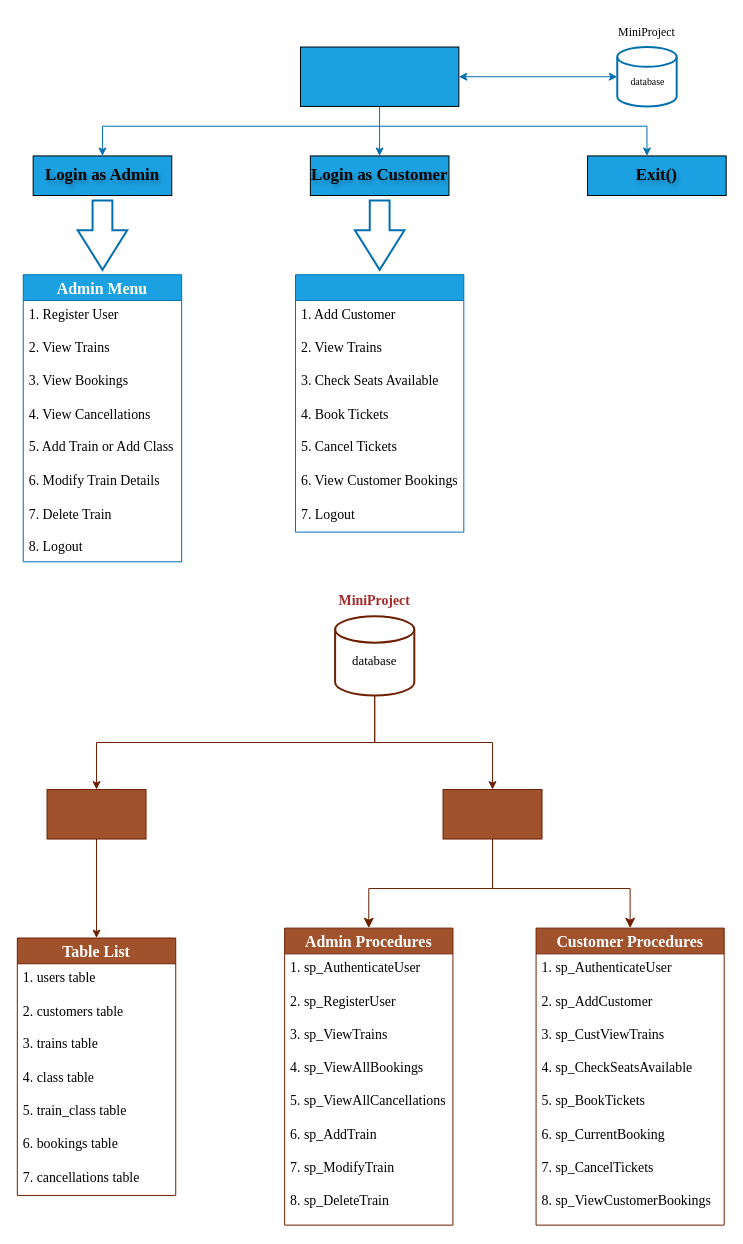
Image size: 743x1244. Some labels were removed from this diagram. Here are the shapes that lost their labels. From the top down, the box of each, then its label:
(299, 46, 459, 106): Railway Reservation System
(295, 274, 464, 532): Customer Menu
(46, 789, 146, 839): Tables
(442, 789, 542, 839): Procedures
